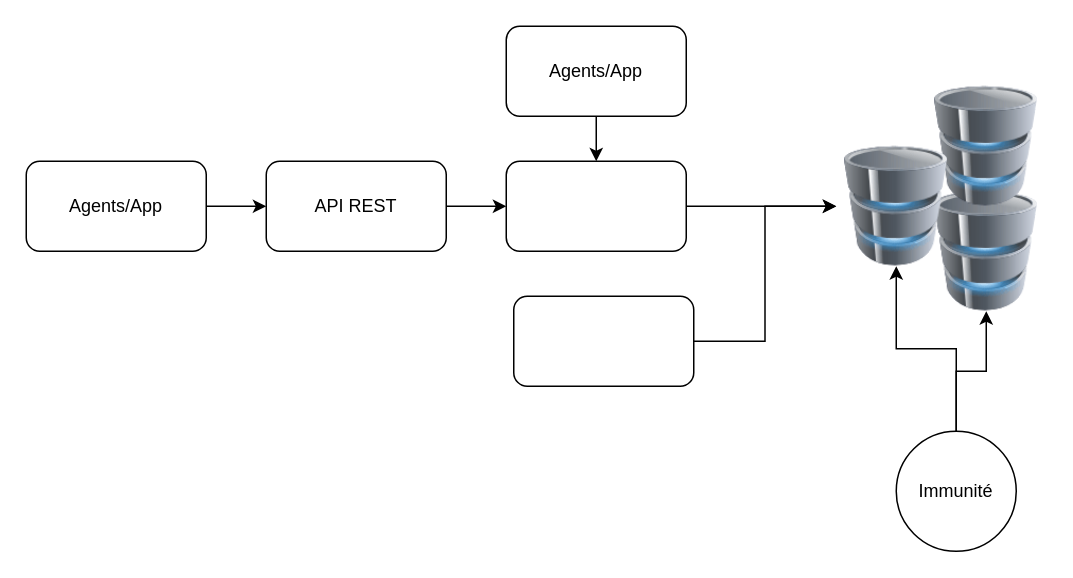
This 1073x578 diagram has some shape labels left out. The box of each missing label's shape, as (x1, y1, x2, y2) in pixels:
Apps: (512, 295, 694, 386)
CORE: (505, 160, 686, 251)
